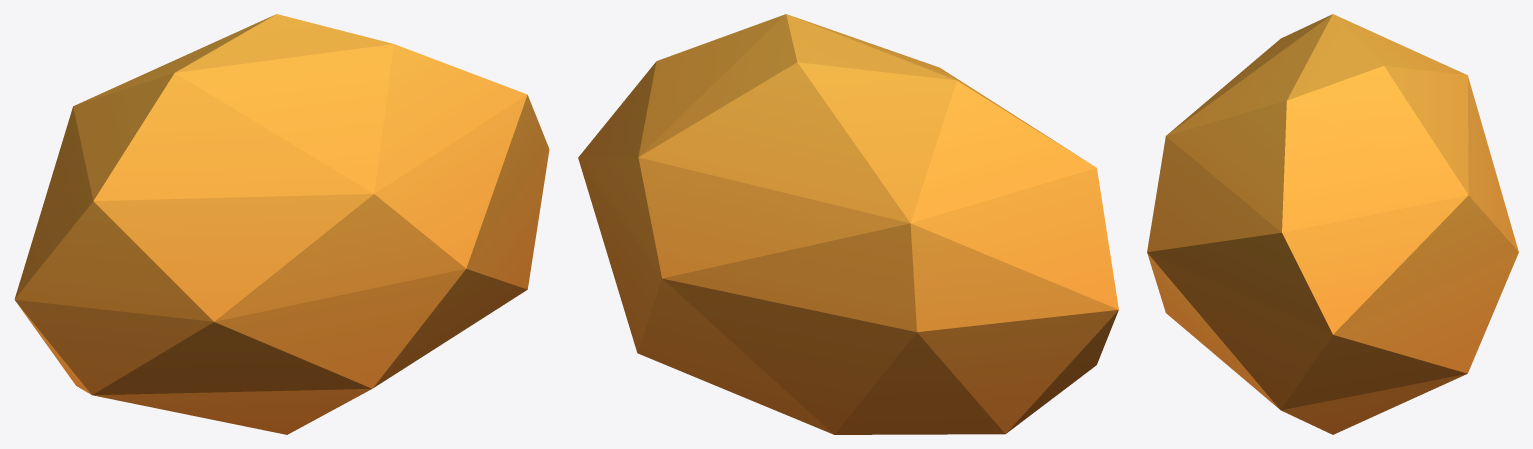
Rendered from Fugaz.fbx.
3 views of the same model, side by side, from view 1: azimuth 30°, elevation 25°; view 2: azimuth 150°, elevation 25°; view 3: azimuth 270°, elevation 25° (orthographic). The views are drawn at different scales.
Parts seen in each view (by area): view 1: Icosphere.001; view 2: Icosphere.001; view 3: Icosphere.001.
Part boxes in pixels (left/top/right/bottom): Icosphere.001: left=14, top=14, right=549, bottom=434; Icosphere.001: left=578, top=14, right=1118, bottom=434; Icosphere.001: left=1147, top=14, right=1518, bottom=434.
Bounding box in the file's own units: 302 × 199 × 199.
